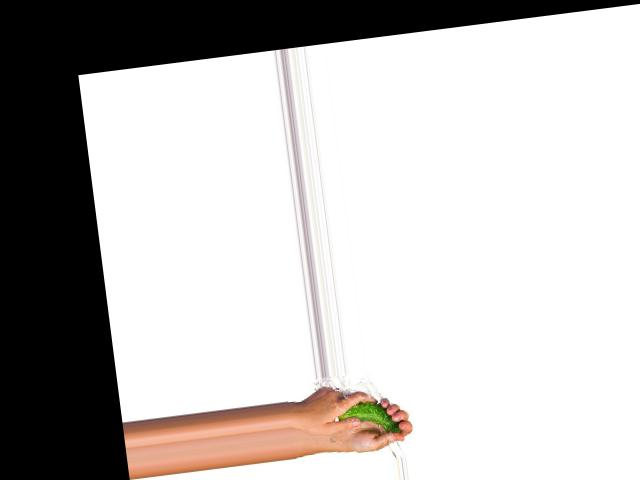cucumber: (335, 396, 401, 439)
